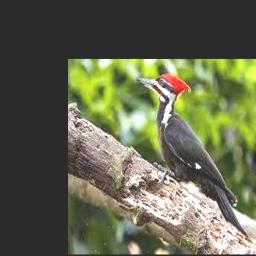Woodpecker: (135, 73, 250, 238)
